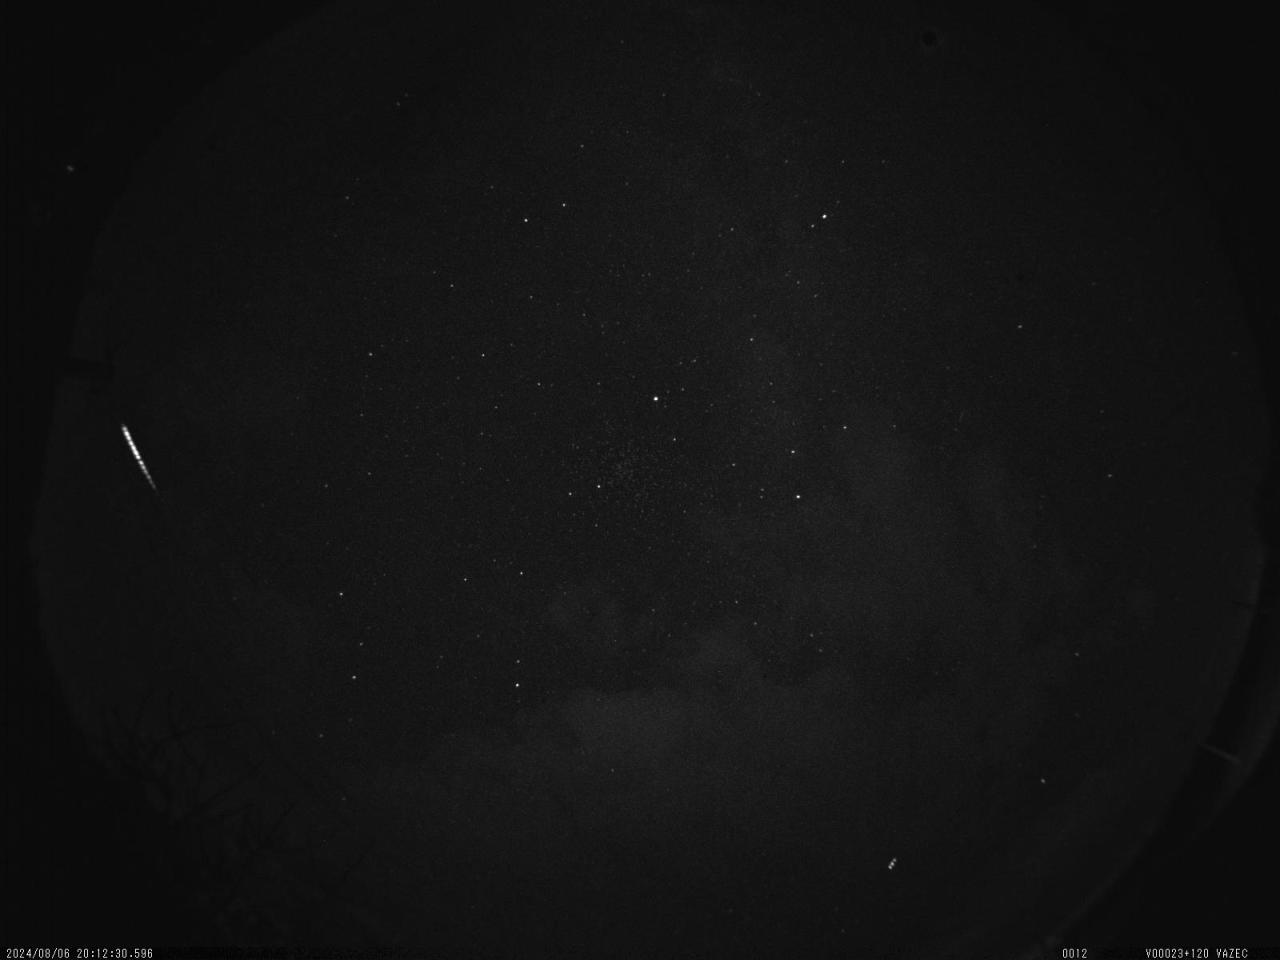Meteor: (118, 421, 157, 493)
